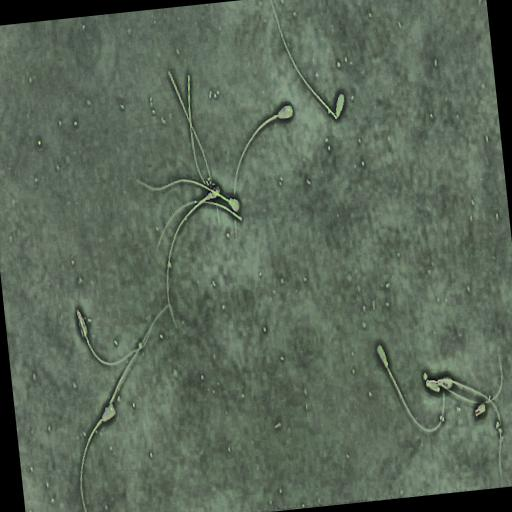folded-tail: (271, 0, 336, 118), (438, 379, 501, 471), (77, 312, 150, 365), (427, 363, 503, 404)
loose-head: (474, 401, 487, 418)
loose-tail: (166, 66, 221, 227), (106, 302, 169, 409), (155, 199, 245, 251), (186, 72, 209, 187)
normal: (266, 0, 353, 126), (230, 96, 297, 240), (165, 182, 222, 329), (370, 335, 447, 438), (435, 371, 504, 479), (73, 302, 157, 371), (74, 397, 119, 512), (423, 349, 507, 406), (131, 172, 243, 214)
